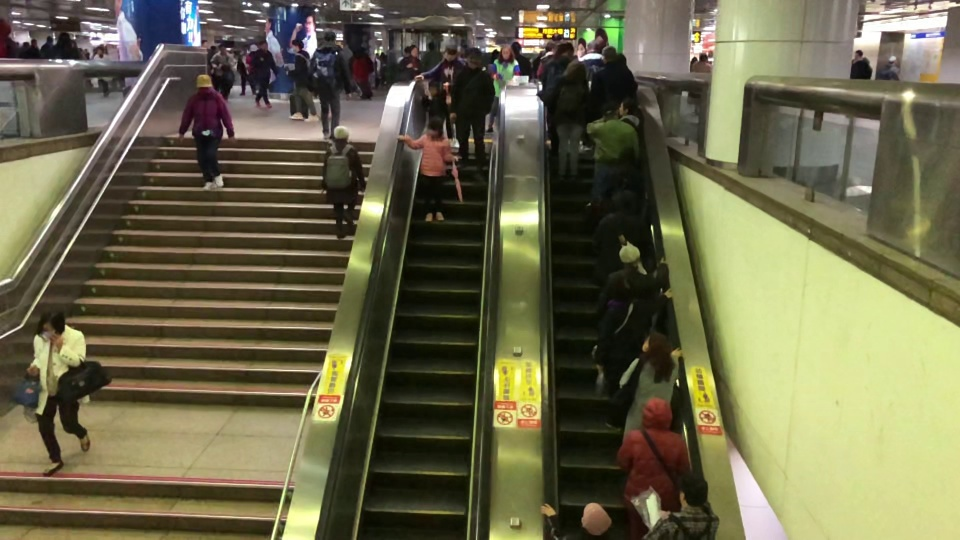person_head: (676, 471, 710, 511), (579, 497, 613, 535), (639, 396, 674, 432), (35, 310, 67, 340), (640, 329, 670, 357), (611, 270, 638, 297), (617, 240, 641, 267), (612, 186, 638, 209), (463, 45, 483, 71), (330, 124, 351, 145), (552, 55, 572, 77), (599, 100, 619, 122), (618, 94, 637, 117), (194, 72, 214, 93), (617, 146, 637, 166), (426, 118, 444, 139), (600, 44, 617, 64), (556, 40, 574, 56), (498, 44, 513, 62), (322, 28, 337, 45), (443, 44, 458, 61), (427, 79, 441, 96), (56, 30, 71, 45), (587, 38, 601, 53), (545, 41, 560, 54), (291, 39, 304, 52), (698, 51, 710, 64), (258, 38, 270, 50), (887, 54, 898, 67), (409, 44, 419, 57), (511, 40, 521, 53), (551, 31, 563, 41), (217, 43, 227, 54), (248, 43, 259, 53), (94, 44, 103, 55), (854, 48, 862, 60)
person_vbox: (24, 306, 91, 475), (614, 396, 693, 539), (591, 269, 674, 394), (615, 331, 683, 447), (597, 241, 669, 339), (535, 55, 591, 180), (397, 116, 462, 223), (178, 72, 235, 188), (590, 188, 655, 285), (448, 46, 492, 182), (584, 103, 640, 208), (639, 474, 722, 540), (304, 30, 353, 140), (320, 124, 366, 240), (415, 45, 466, 145), (586, 46, 637, 119), (540, 42, 573, 154), (537, 499, 619, 540), (594, 147, 643, 214), (283, 37, 319, 124), (485, 45, 520, 133), (246, 39, 279, 110), (578, 39, 606, 92), (209, 44, 234, 103), (90, 44, 115, 99), (421, 81, 447, 133), (47, 29, 81, 62), (536, 41, 560, 78), (397, 45, 423, 79), (245, 43, 261, 95), (511, 40, 533, 76), (618, 97, 640, 133), (877, 55, 903, 83), (850, 46, 871, 80), (689, 52, 713, 74)
